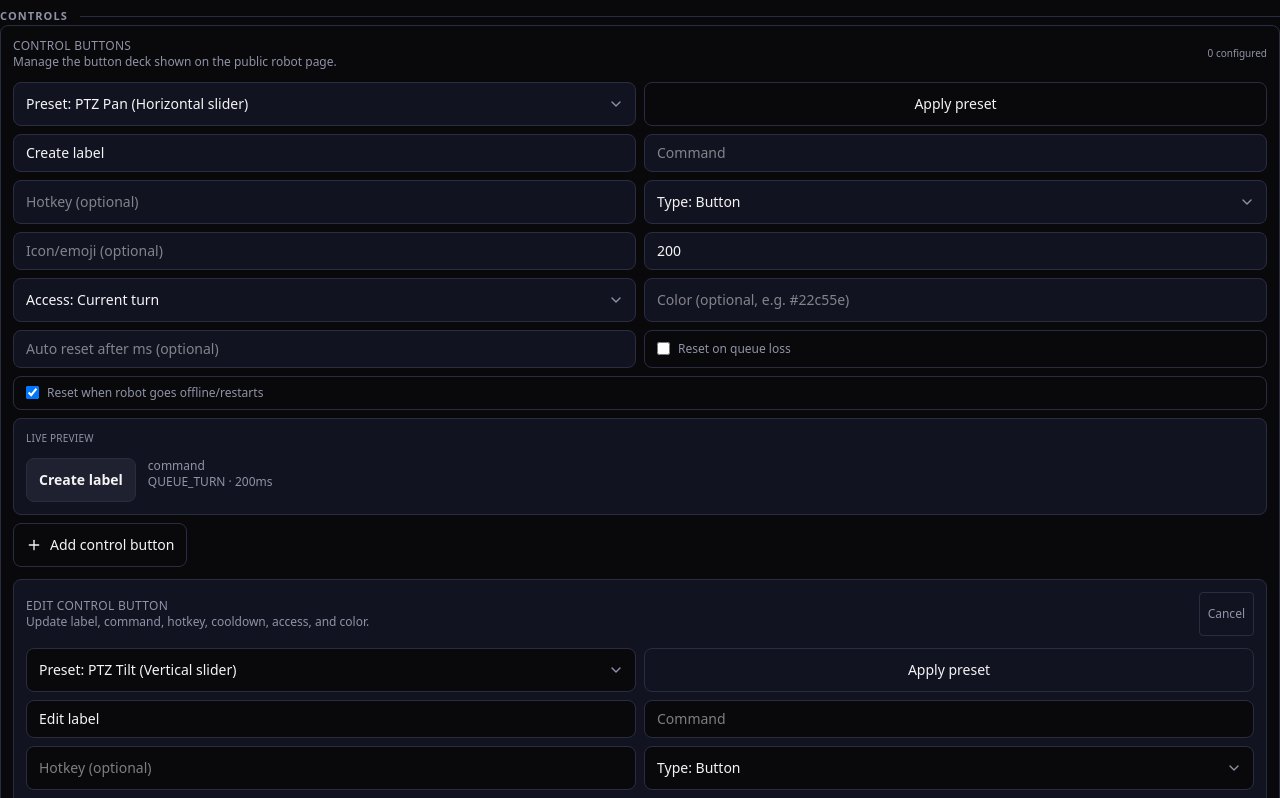
Scenario: ControlButtonEditor › keeps create and edit drafts independent while exposing the same fields
Expected: the field showing "Edit label" below "Edit control button" holds "Edit label", [26, 700, 636, 738]
Expected: the number of buttons "Apply preset" is 2, [644, 82, 1267, 126]; [644, 648, 1254, 692]
Replace the text in the 1st field showing "Create label" with "New control": (324,152) [13, 134, 636, 172]
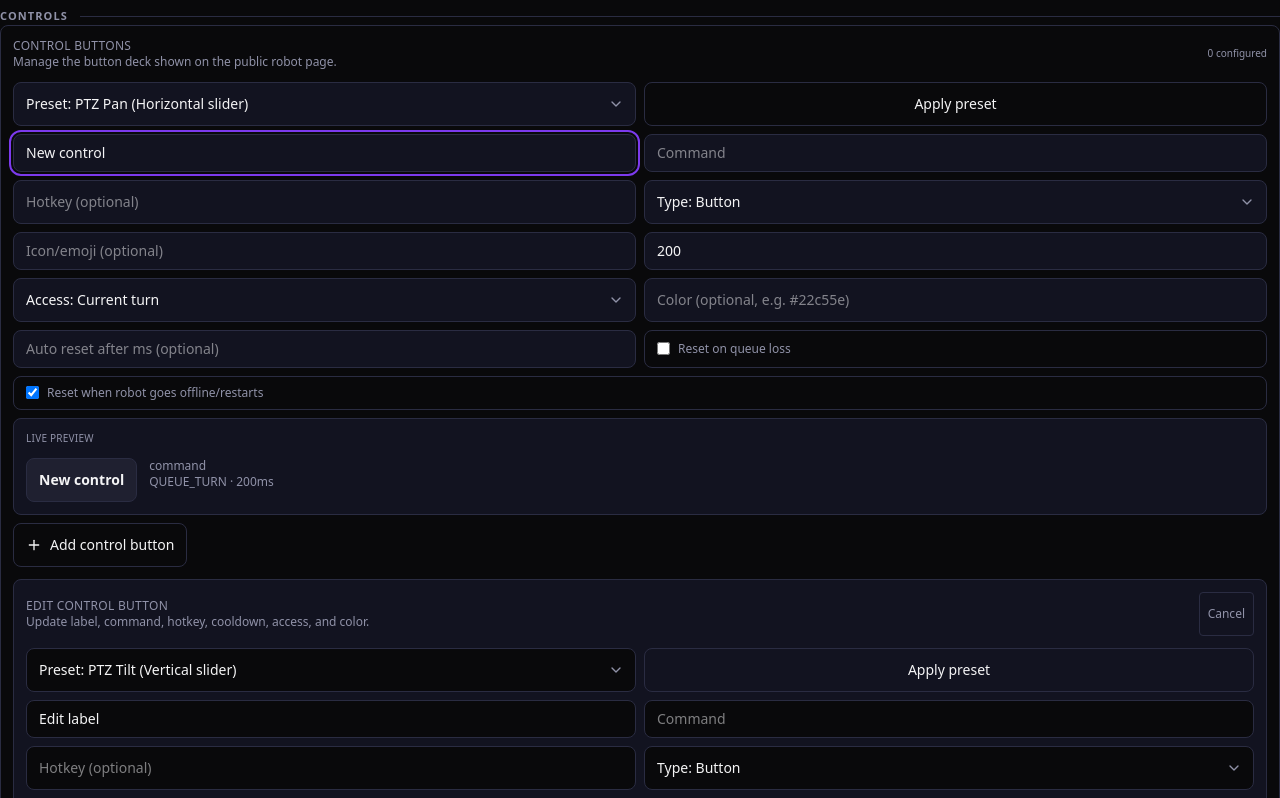
Expected: the field showing "Edit label" below "Edit control button" holds "Edit label", [26, 700, 636, 738]
Click the button "Cancel": (1226,614) [1199, 592, 1254, 636]
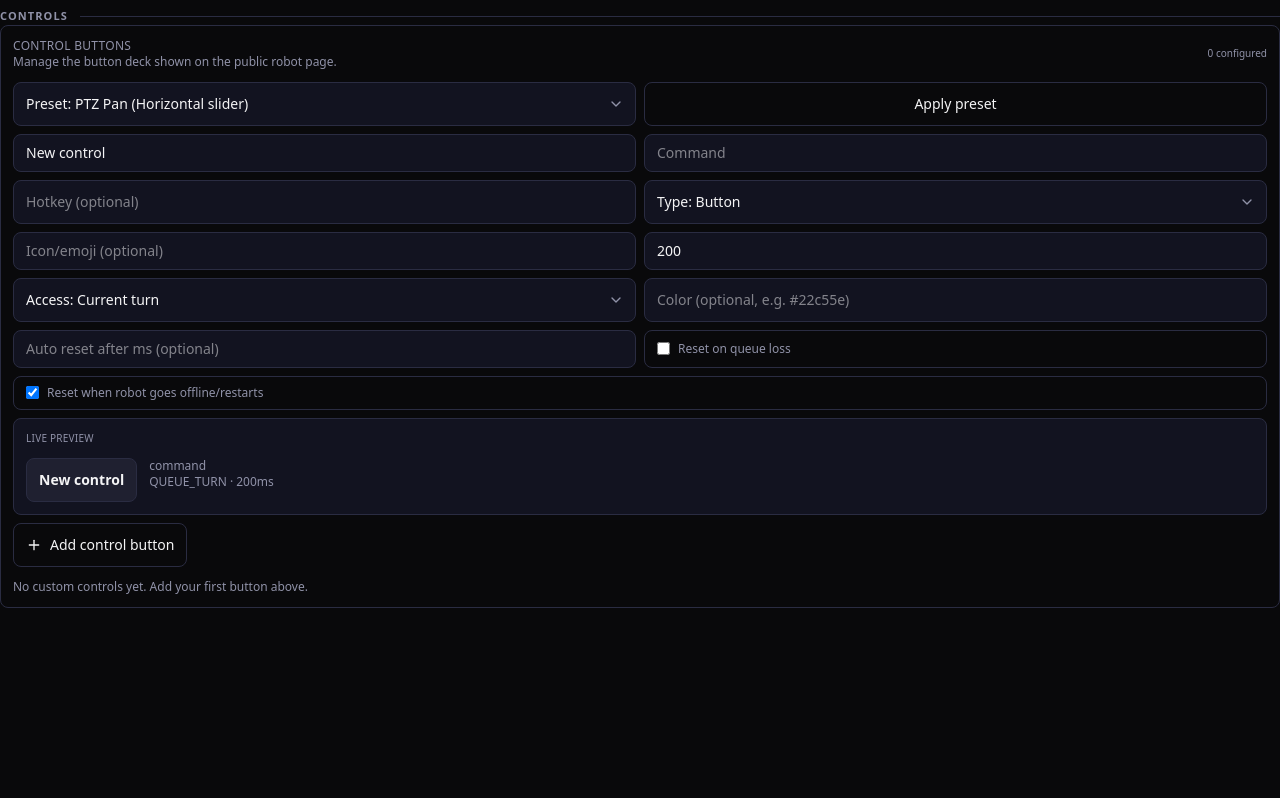
Expected: the number of fields with placeholder "Label" is 1, [13, 134, 636, 172]
